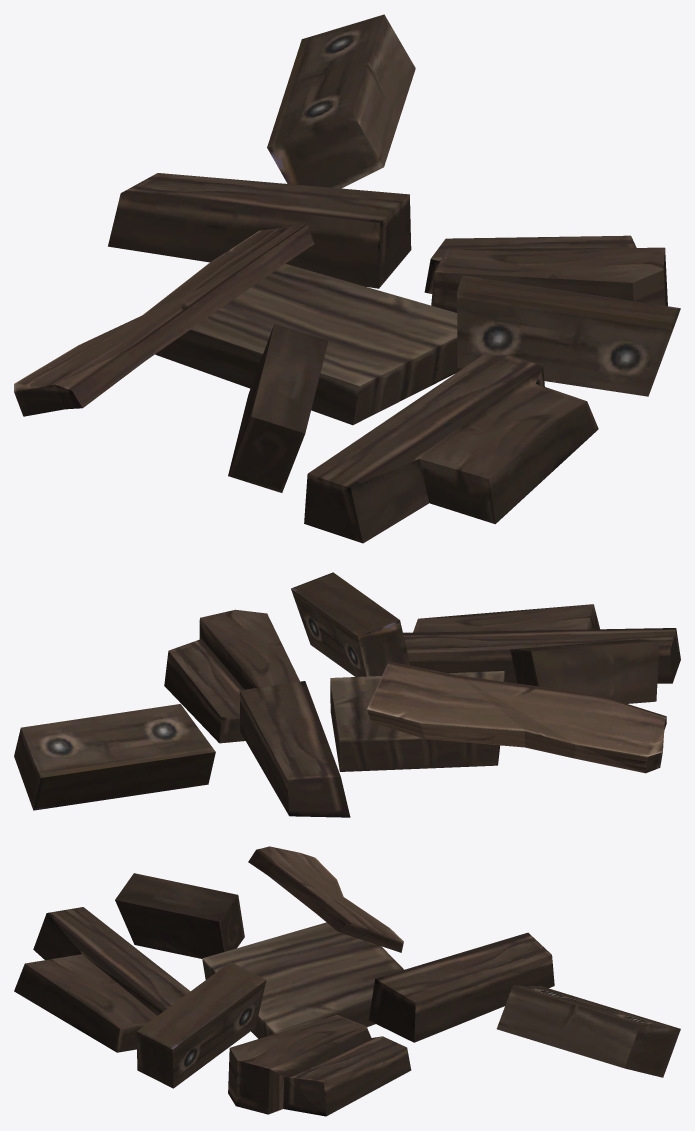
Rendered from bandit_scrap_03.fbx.
3 renders of one model, top to bottom at view 1: azimuth 30°, elevation 25°; view 2: azimuth 150°, elevation 25°; view 3: azimuth 270°, elevation 25°, orthographic. The views are drawn at different scales.
Parts seen in each view (by area): view 1: obj0.624; view 2: obj0.624; view 3: obj0.624.
Boxes of the visible parts, left/top/right/bottom form: obj0.624: left=14, top=14, right=680, bottom=543; obj0.624: left=14, top=572, right=680, bottom=817; obj0.624: left=14, top=846, right=680, bottom=1116.
Bounding box in the file's own units: 2.58 × 0.5095 × 3.26.
